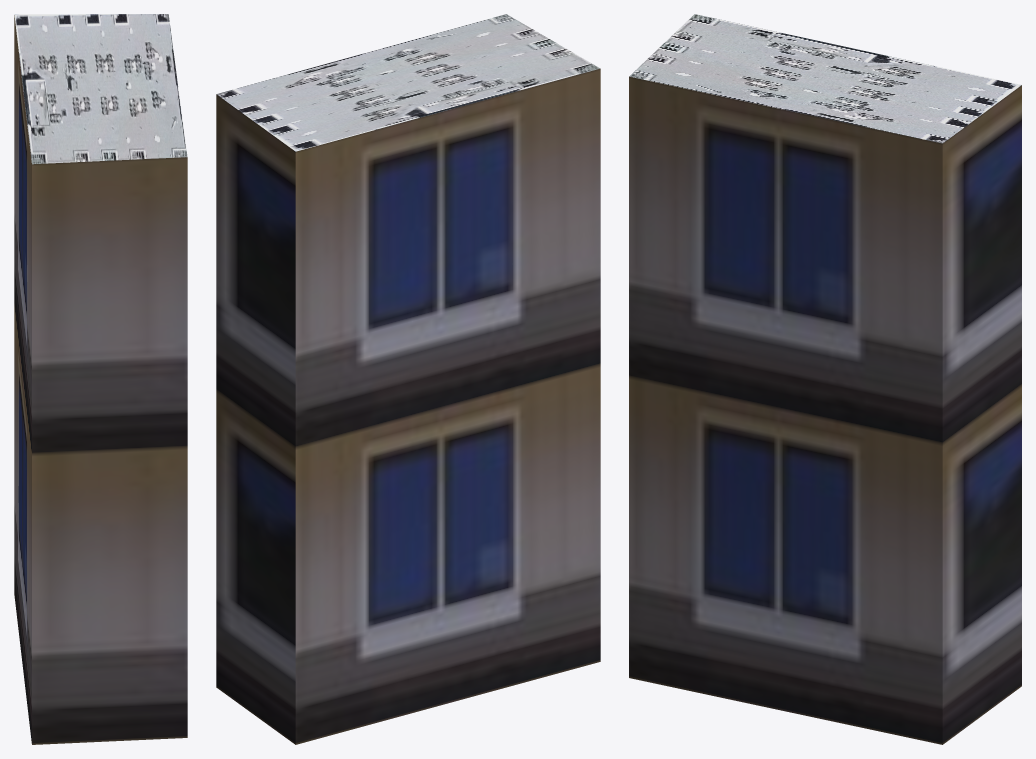
Rendered from ResTex__4059.fbx.
The picture shows the model from 3 angles, left to right: view 1: azimuth 30°, elevation 25°; view 2: azimuth 150°, elevation 25°; view 3: azimuth 270°, elevation 25°; orthographic projection. The views are drawn at different scales.
Visible parts, largest first — view 1: CityEngineMaterial_5_m, CityEngineMaterial_8_m; view 2: CityEngineMaterial_5_m, CityEngineMaterial_8_m; view 3: CityEngineMaterial_5_m, CityEngineMaterial_8_m.
Part boxes in pixels (x1,y1,x2,y2): CityEngineMaterial_5_m: (14,15,187,744); CityEngineMaterial_8_m: (14,14,187,164); CityEngineMaterial_5_m: (216,68,600,744); CityEngineMaterial_8_m: (216,14,600,151); CityEngineMaterial_5_m: (629,76,1021,744); CityEngineMaterial_8_m: (629,14,1021,143).
Size of the model in its own units: 2.77 by 6 by 3.55.
2 materials, 2 textured.
